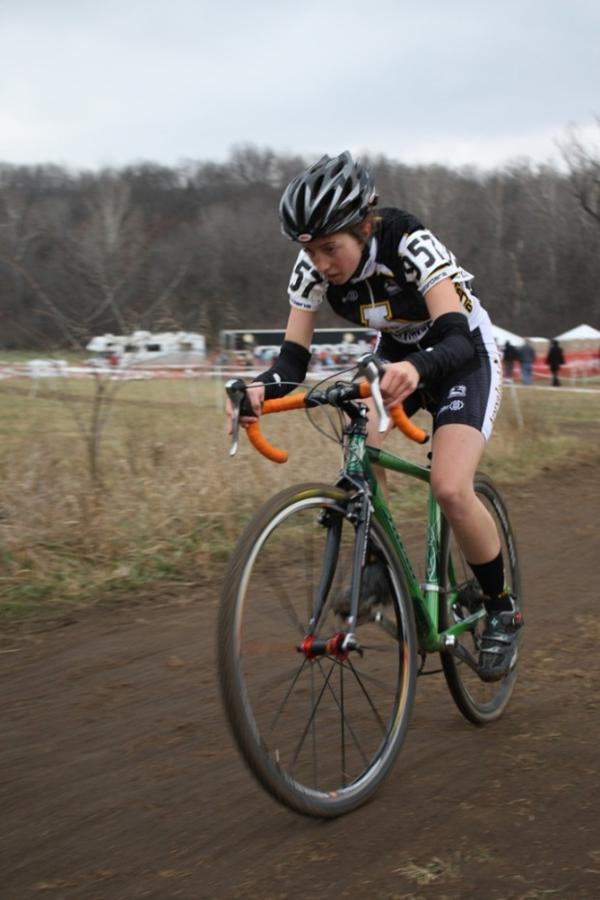person: (225, 150, 527, 681)
